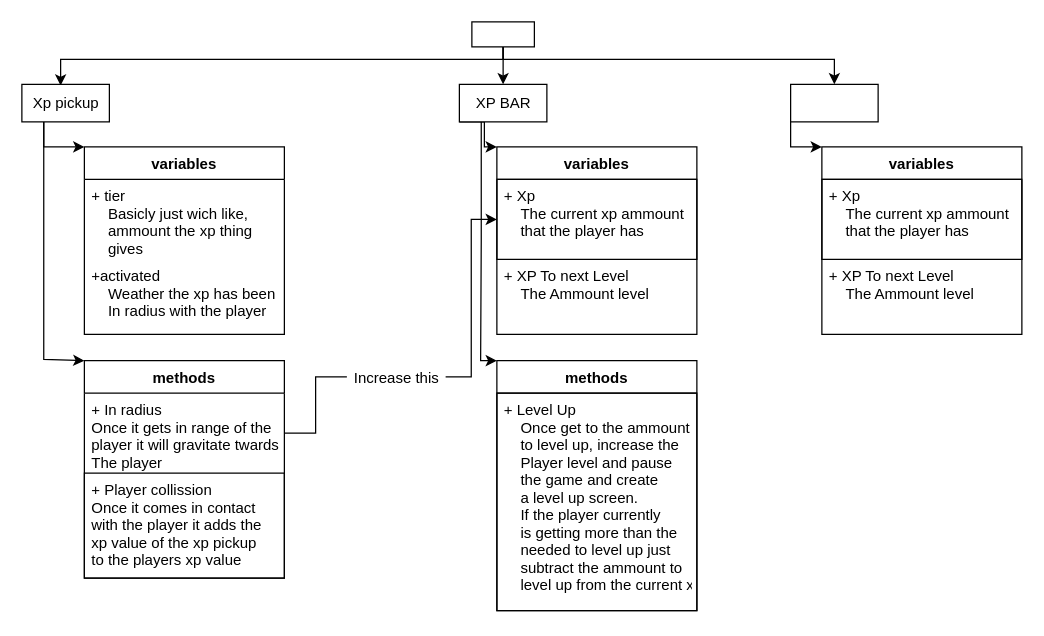
The diagram is 1044 pixels wide and 636 high, and some of its shapes have lost their labels. The shapes that lost their labels are listed below. From the top down, each one's centre as x and y in pixels, then its label:
At point 502,34: "XP".
At point 833,102: "Level up screen".
